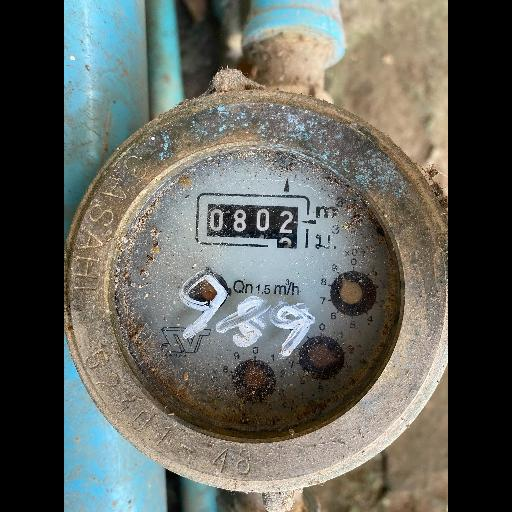0: (253, 205, 278, 240), (207, 204, 229, 238)
2: (276, 206, 298, 248)
8: (228, 204, 253, 238)
border_water_meter_number: (196, 192, 311, 249)
